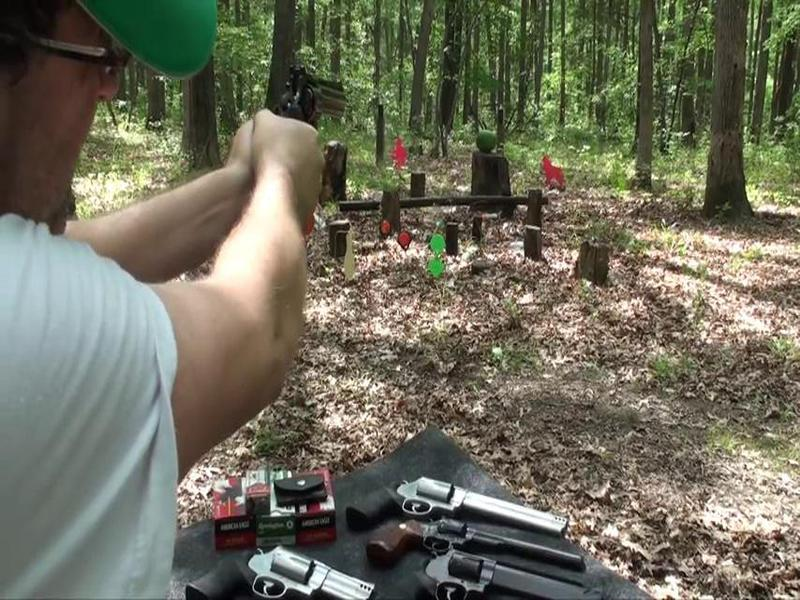Revolver: (250, 57, 381, 160)
